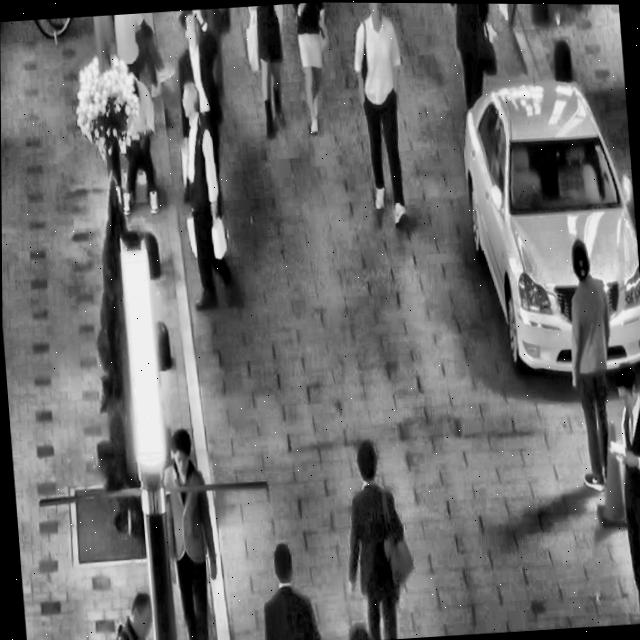light_vehicle: (450, 55, 640, 391)
